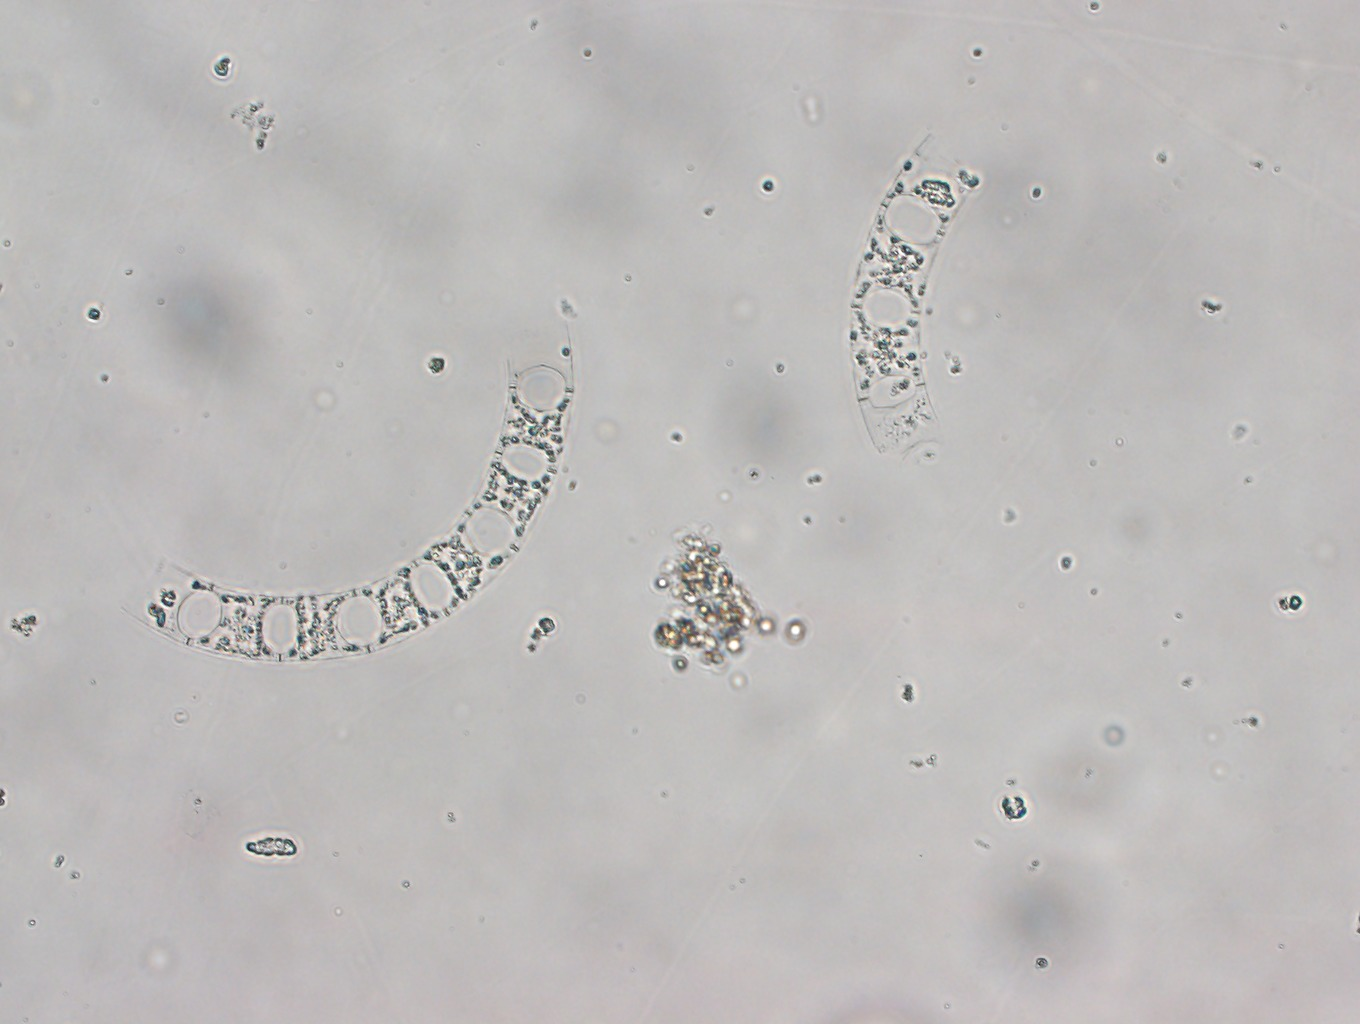eucampia: (120, 310, 583, 670), (838, 126, 1003, 463)
